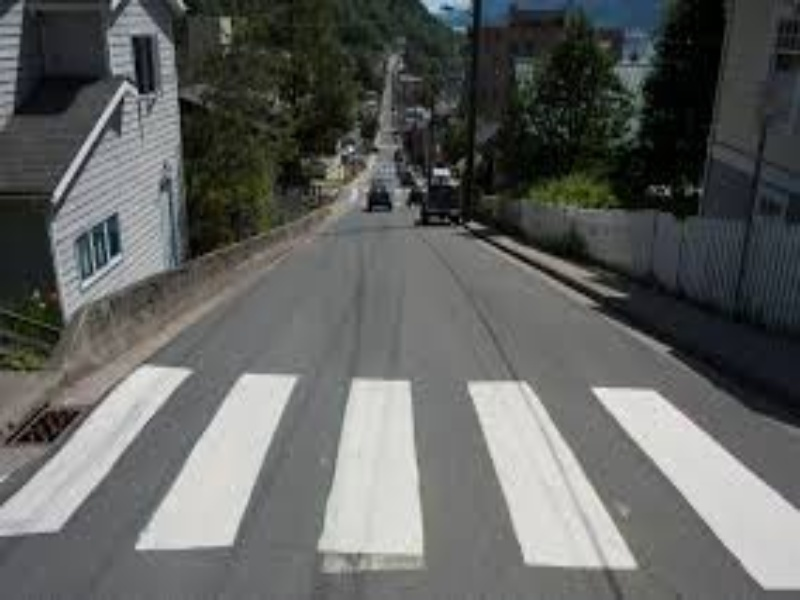zebra cross: (1, 361, 800, 590)
